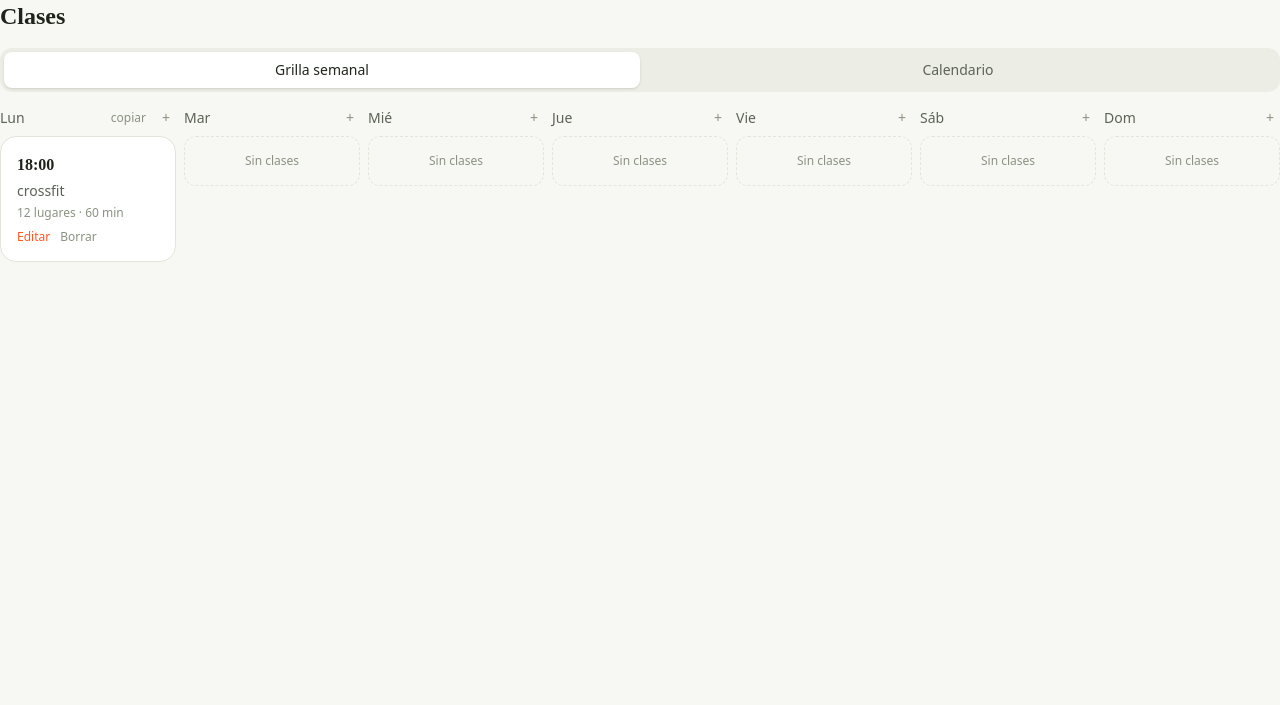
Test: Classes — calendario (F3-06) › cancelar una clase con gente dice cuántos créditos vuelven
Click the button "Calendario" at (958, 70), box [640,52,1276,88]
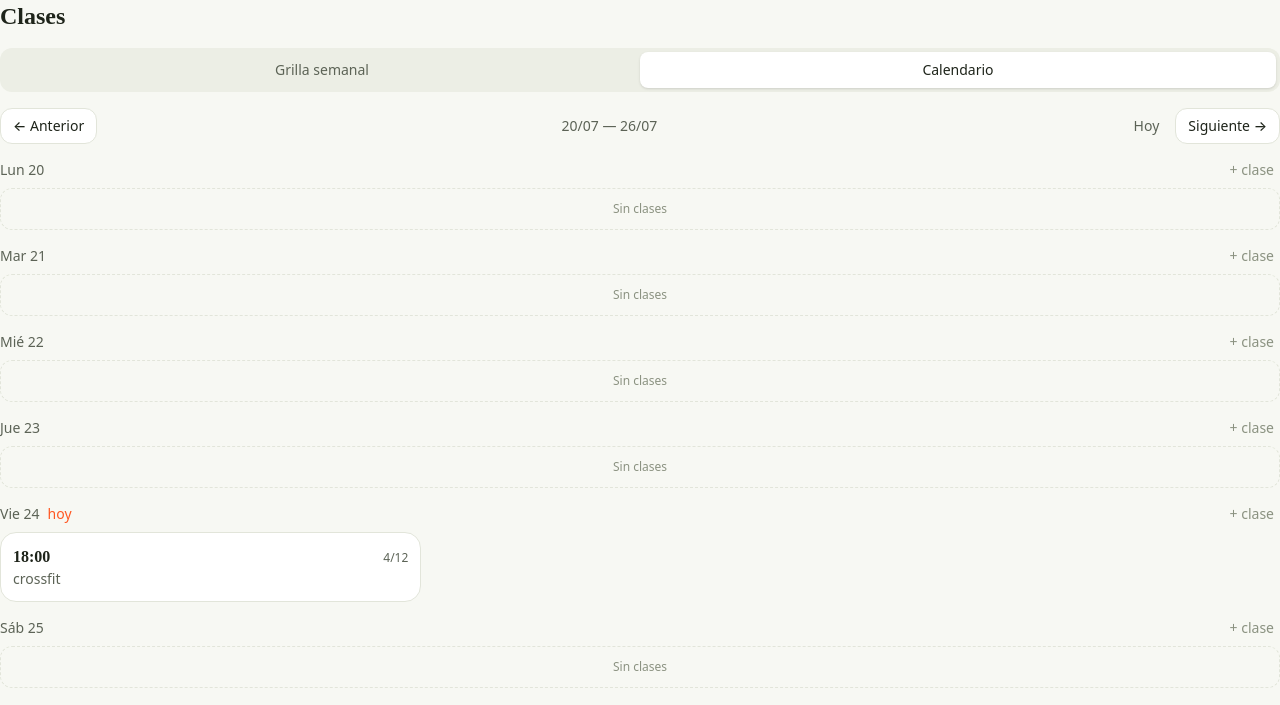
Click the text "18:00" at (32, 557), box [13,545,50,569]
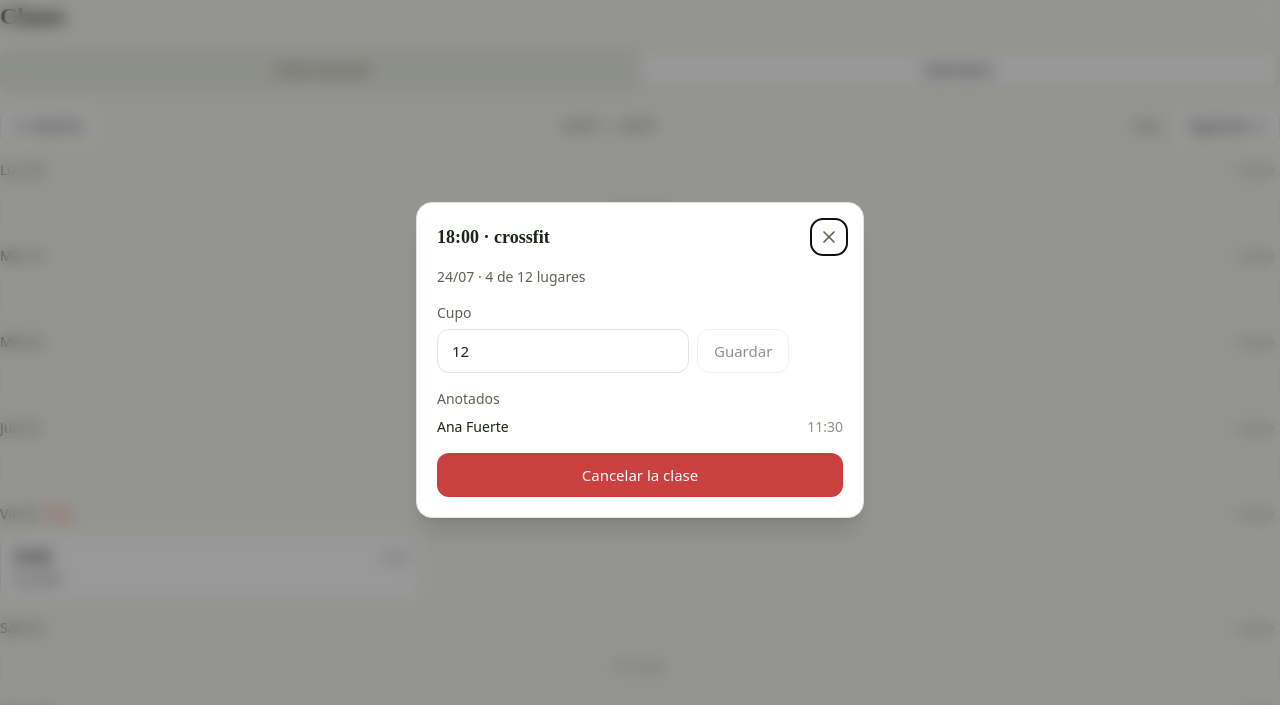
Click the button "Cancelar la clase" at (640, 475), box [437,453,843,497]
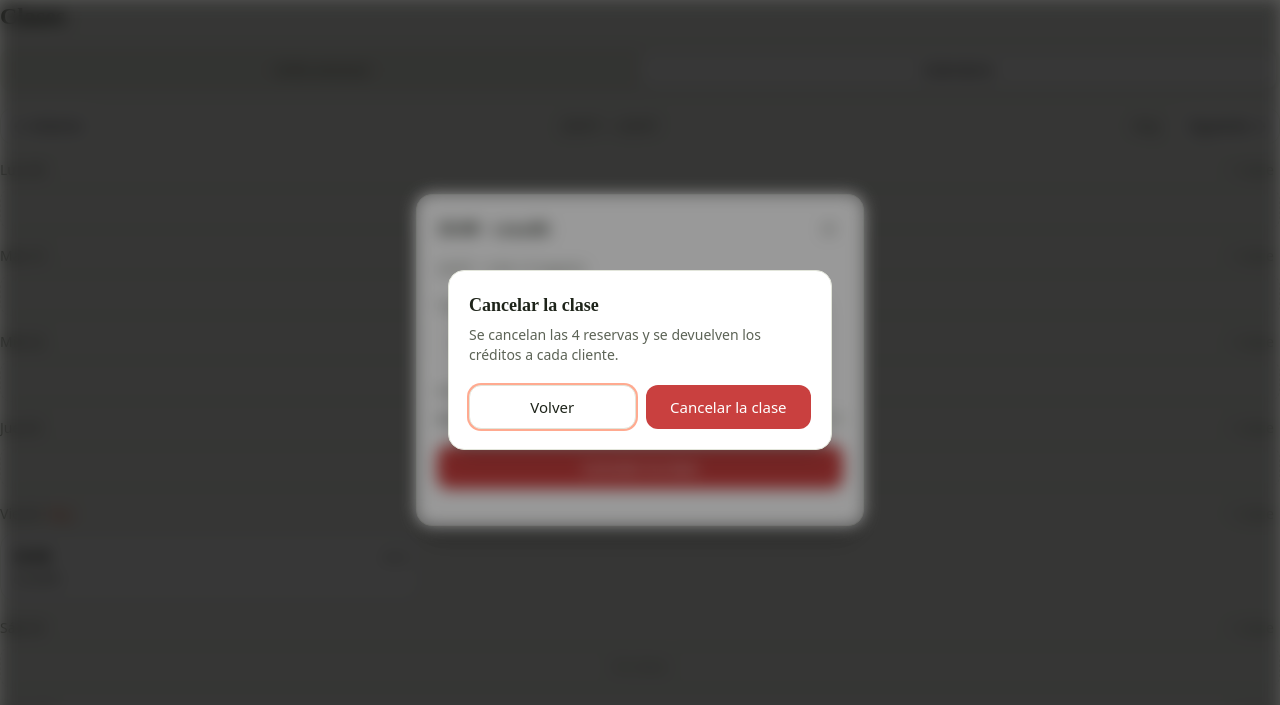
Check: the text "Se cancelan las 4 reservas y se devuelven los créditos" is shown, box [469,325,761,364]
Click the 1st button "Cancelar la clase" at (728, 407), box [646,385,811,429]
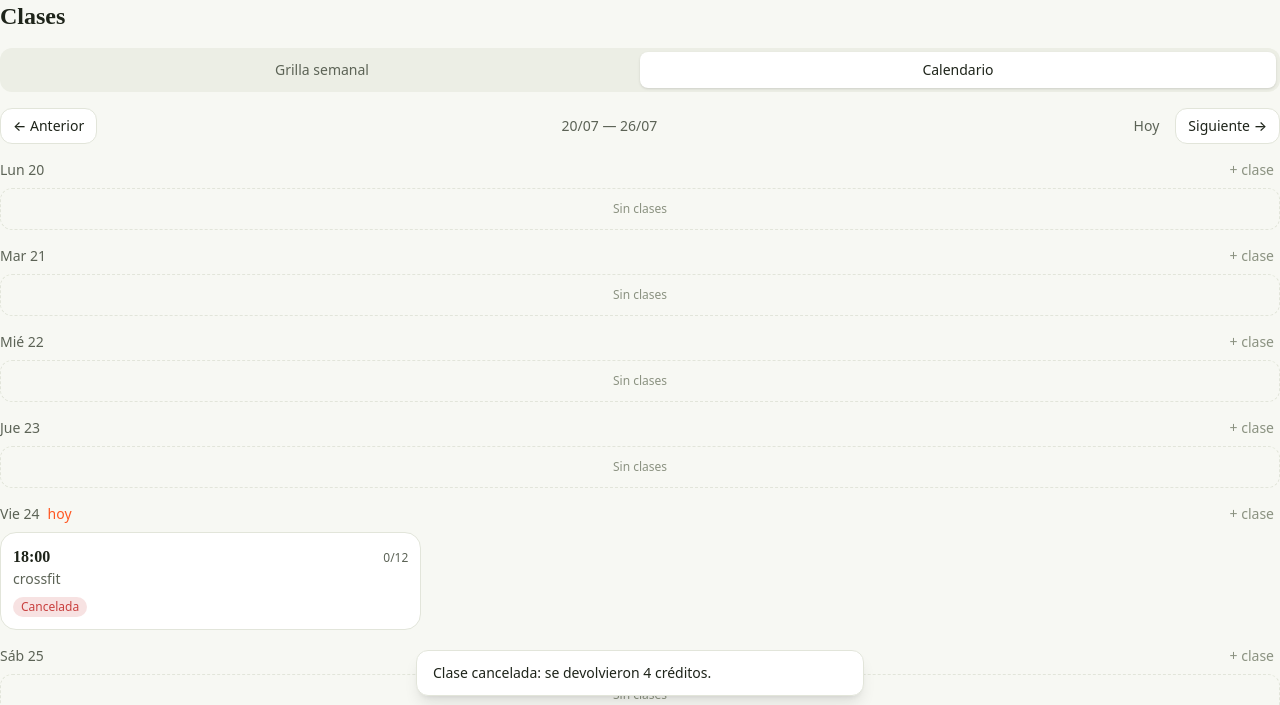
Check: the text "Clase cancelada: se devolvieron 4 créditos." is shown, box [416,650,864,696]
